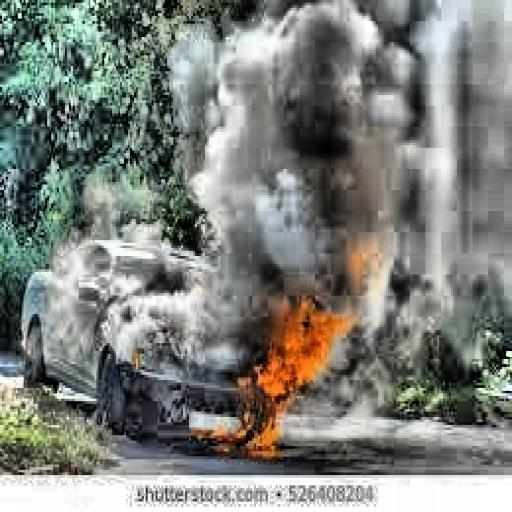fire: (224, 285, 364, 459)
